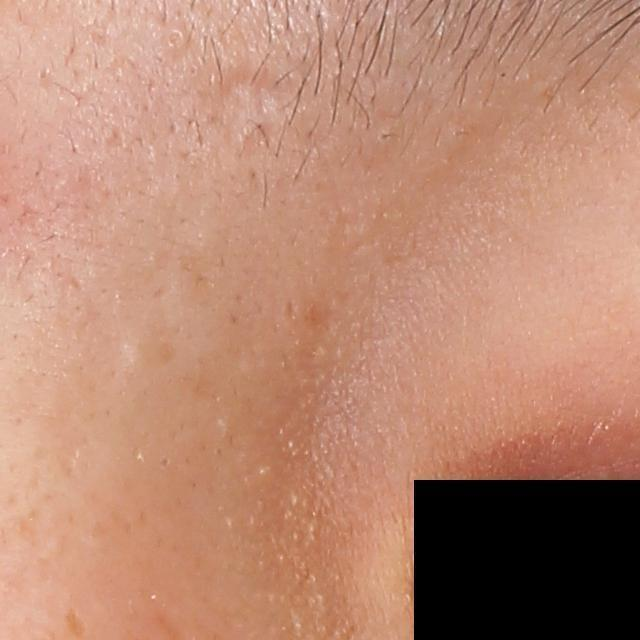atrophic_scar: (198, 63, 318, 146)
comedo: (124, 334, 158, 370), (161, 22, 190, 56)
melasma: (61, 606, 88, 640)
